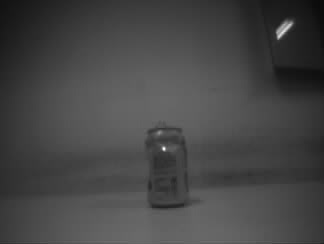Tin can: (145, 120, 191, 208)
